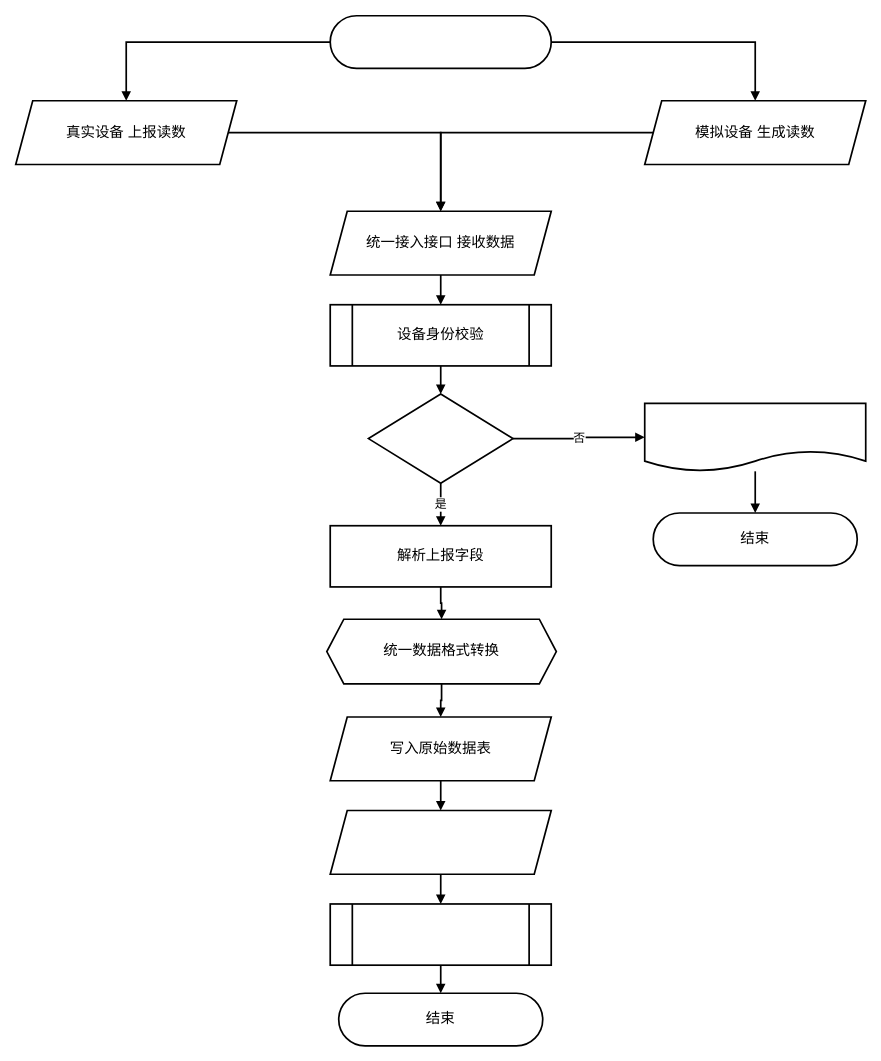
The diagram is 881 pixels wide and 1061 high, and some of its shapes have lost their labels. The centre of each missing label's shape, as x and y in pixels:
"写入监测读数表" goes at point 440,842.
"开始" goes at point 440,41.
"记录接入失败日志" goes at point 754,437.
"设备是否合法" goes at point 440,438.
"进入异常检测流程" goes at point 440,934.
